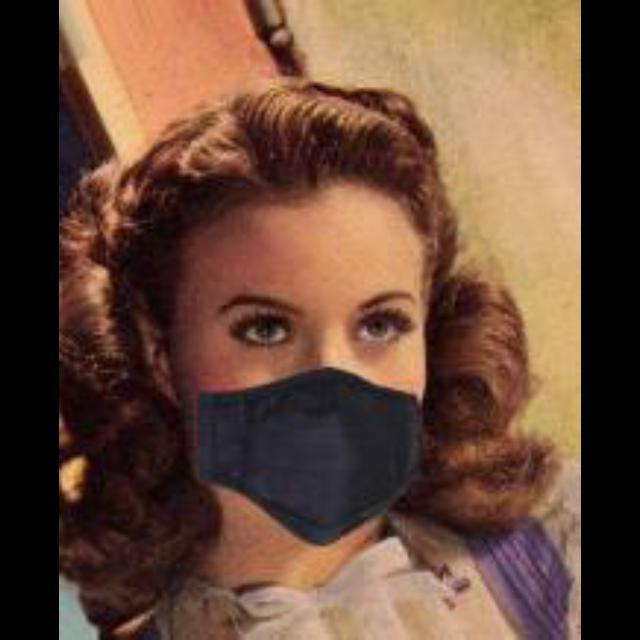suspicion: (130, 126, 492, 554)
